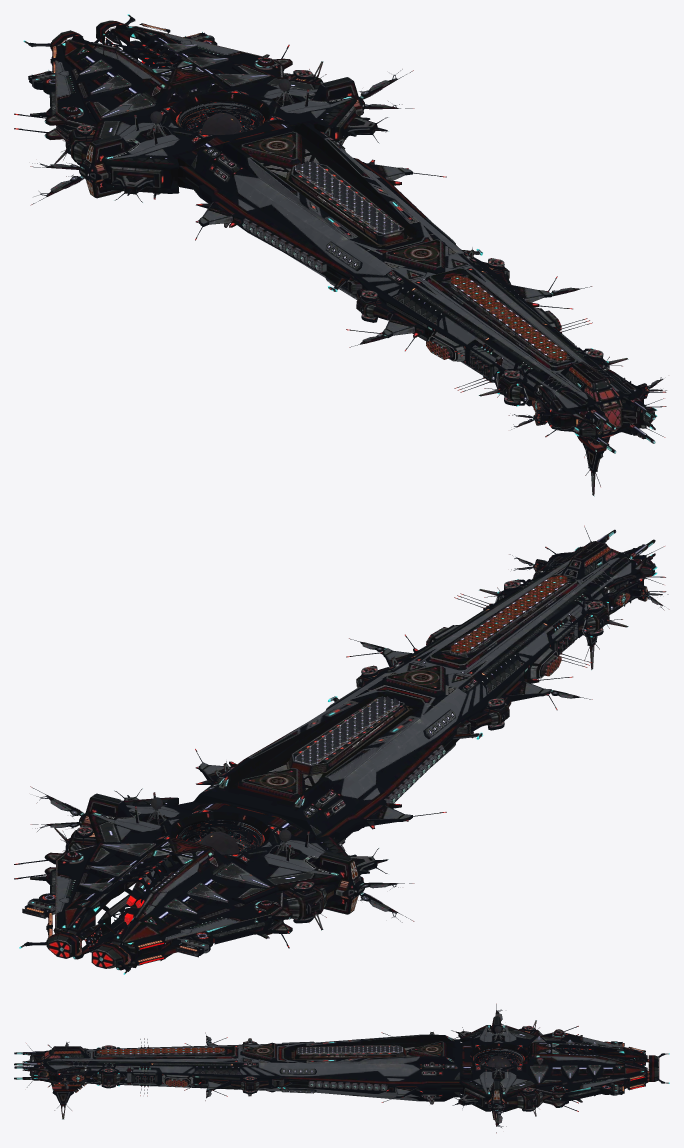
File: rta_archon.glb
3 renders of one model, top to bottom at view 1: azimuth 30°, elevation 25°; view 2: azimuth 150°, elevation 25°; view 3: azimuth 270°, elevation 25°, orthographic. The views are drawn at different scales.
Visible parts, largest first — view 1: rta_archon; view 2: rta_archon; view 3: rta_archon.
Boxes of the visible parts, x1=… form: rta_archon: x1=14, y1=14, x2=666, y2=496; rta_archon: x1=14, y1=525, x2=669, y2=974; rta_archon: x1=14, y1=1003, x2=669, y2=1133.
Size of the model in its own units: 166 by 53.1 by 419.
Materials: 1 (1 with a texture image).
